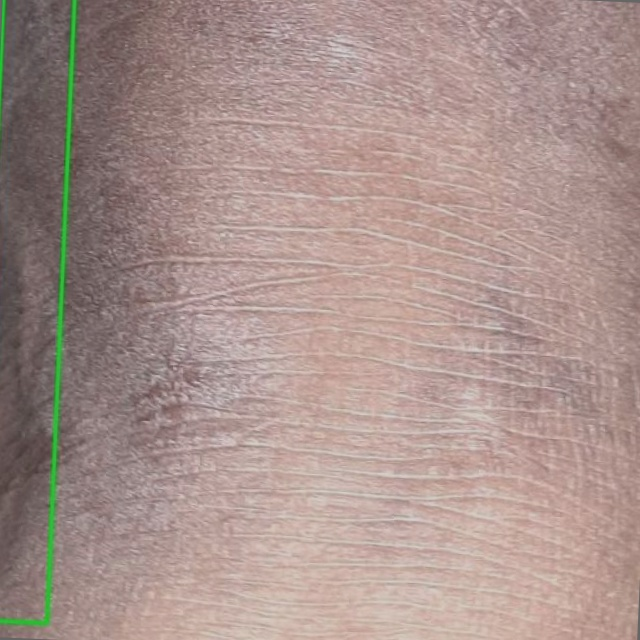Contact Dermatitis: (0, 0, 74, 623)
